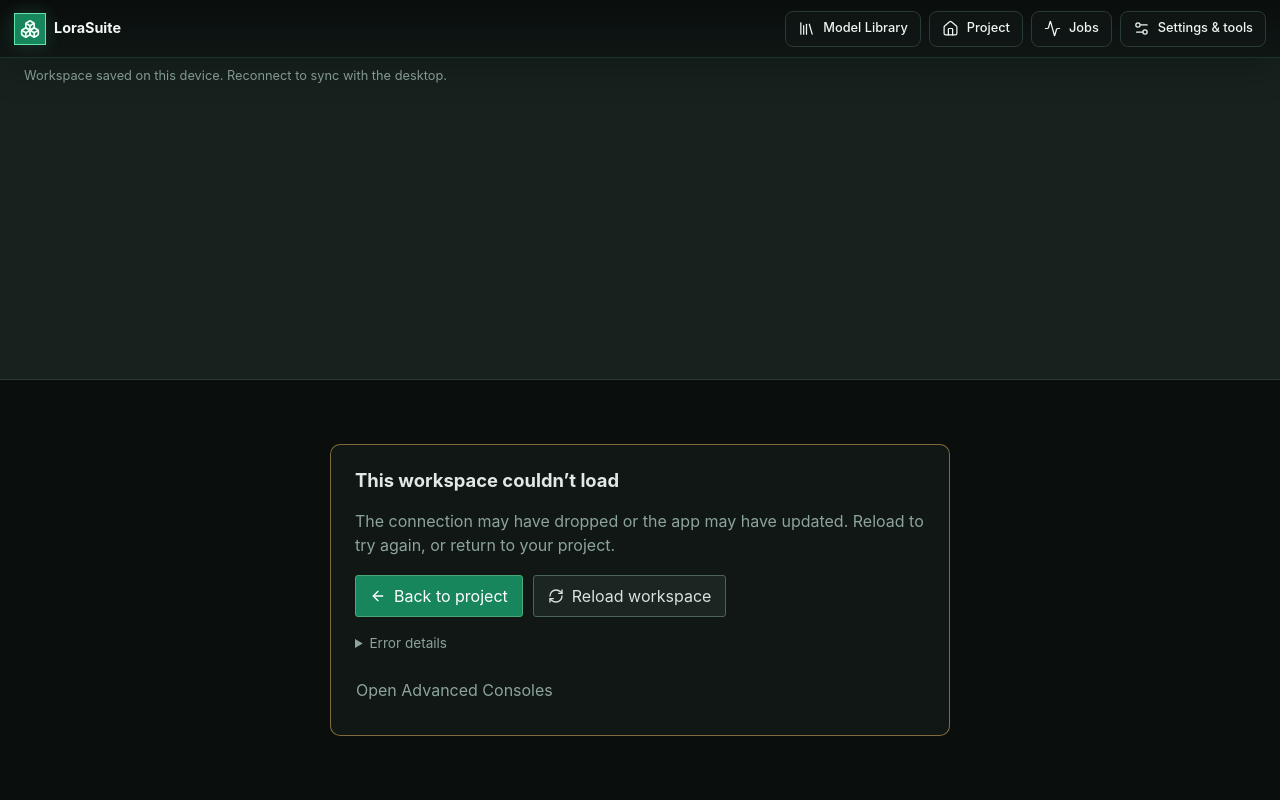
Test: escapes a failed Build screen using Back to project without changing the selected project
Click the button "Back to project". click: (439, 596)
box: [355,575,523,617]
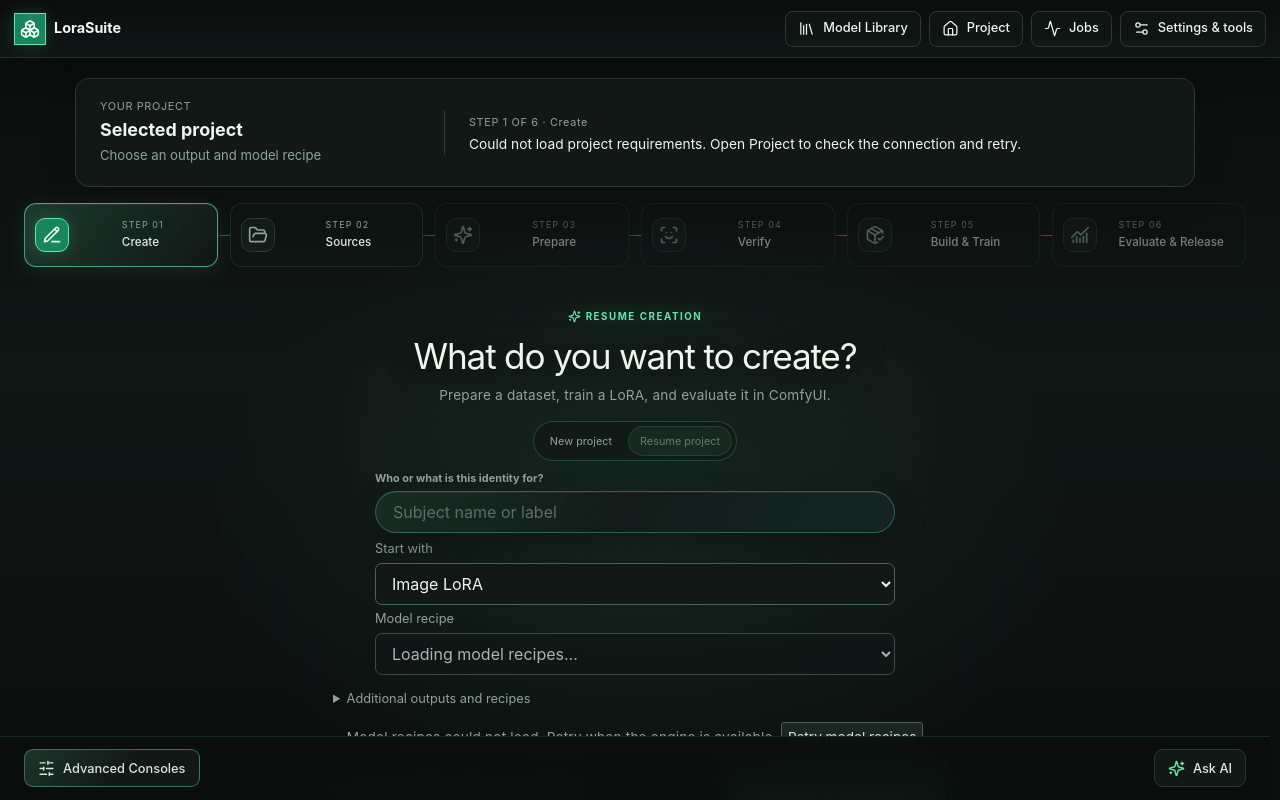
Result: the heading "What do you want to create?" is shown at [414,335,856,377]
Result: the heading "This workspace couldn’t load" is gone
